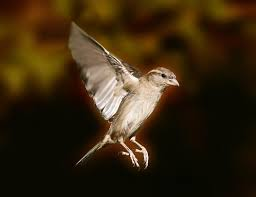hsparrow: (57, 20, 184, 173)
